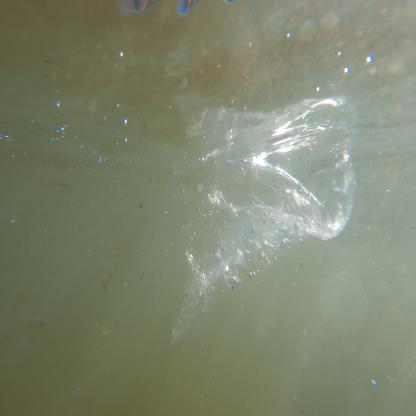Rác: (186, 99, 369, 303)
